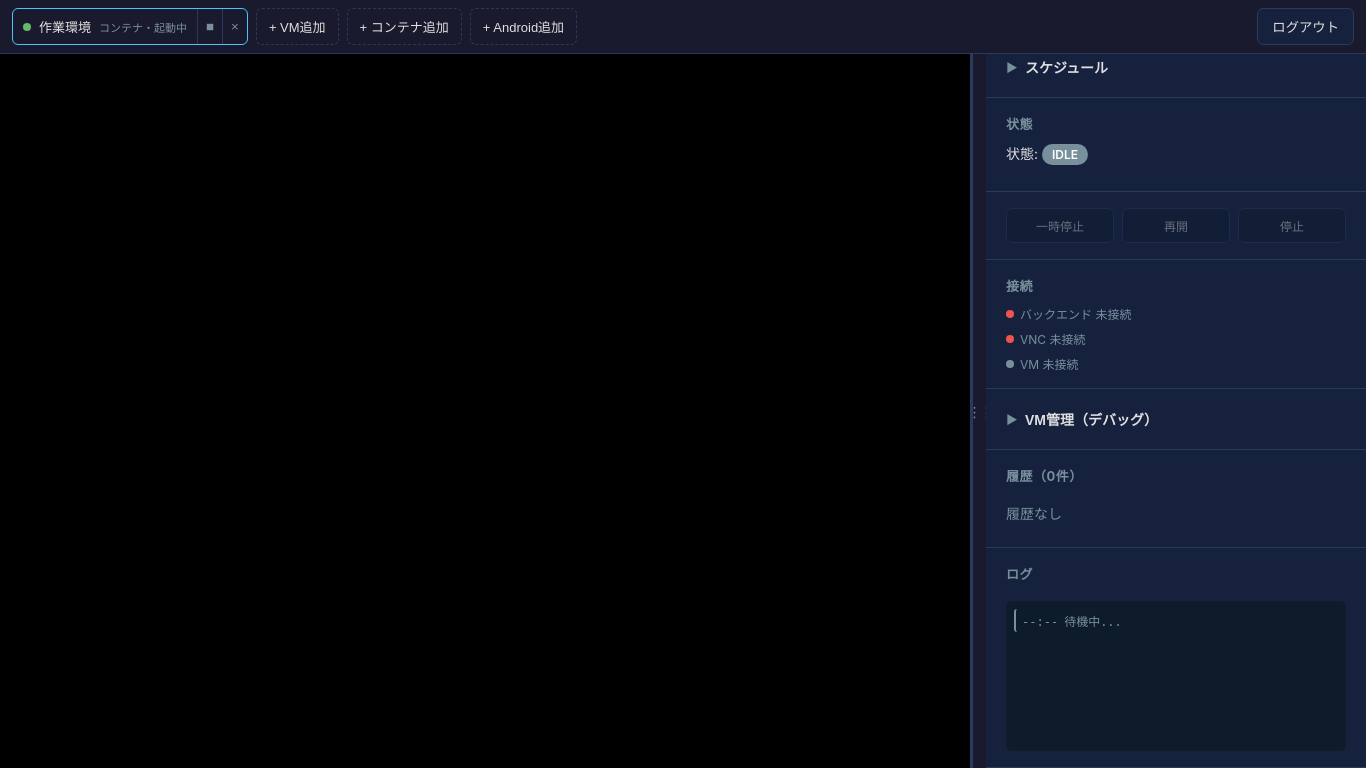
creation failures preserve the current environment and allow retry: {}
(page scrolled)
Expected: the button named "作業環境を停止" is shown, top-left (197, 9), bottom-right (222, 44)
Click the button "+ コンテナ追加" at (404, 26), box top-left (347, 8), bottom-right (462, 45)
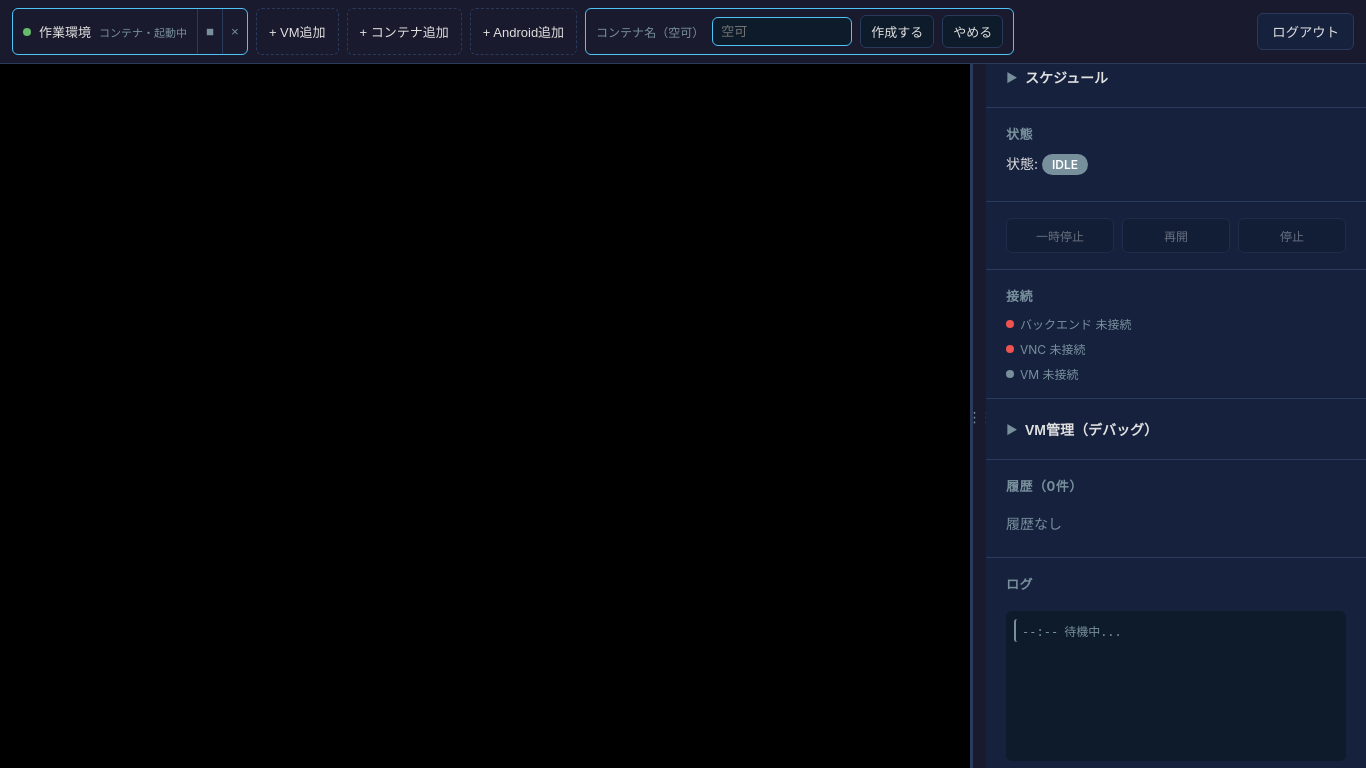
Click the button "作成する" at (897, 32), box top-left (860, 15), bottom-right (934, 48)
(page scrolled)
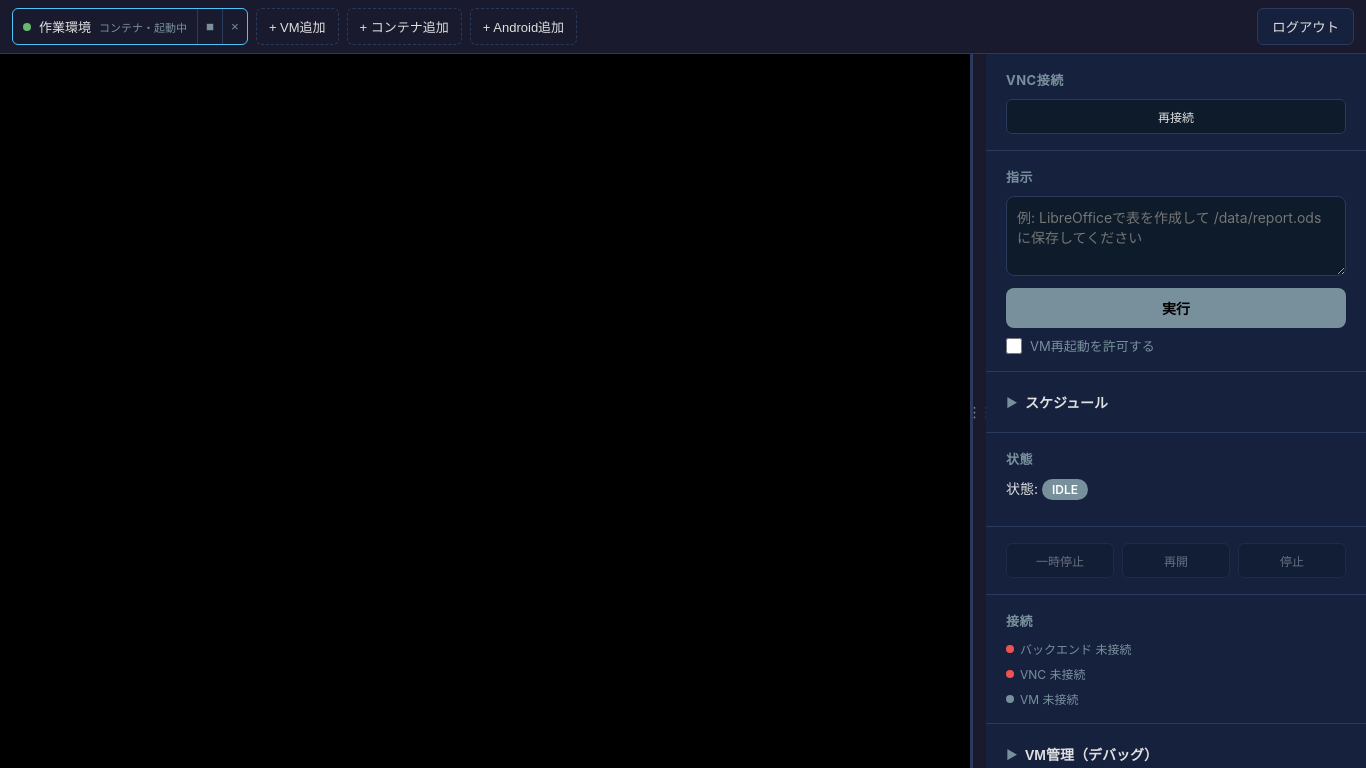
Expected: the button "+ コンテナ追加" is enabled, top-left (347, 8), bottom-right (462, 45)
Expected: the text box named "指示" is enabled, top-left (1006, 196), bottom-right (1346, 276)
